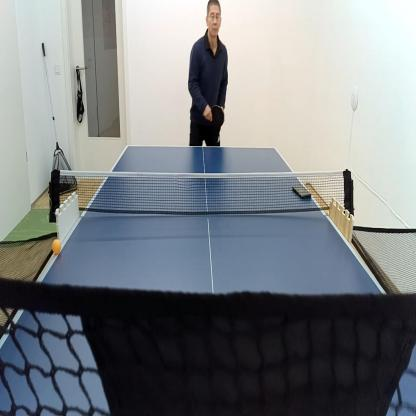Ball: (52, 238, 62, 253)
